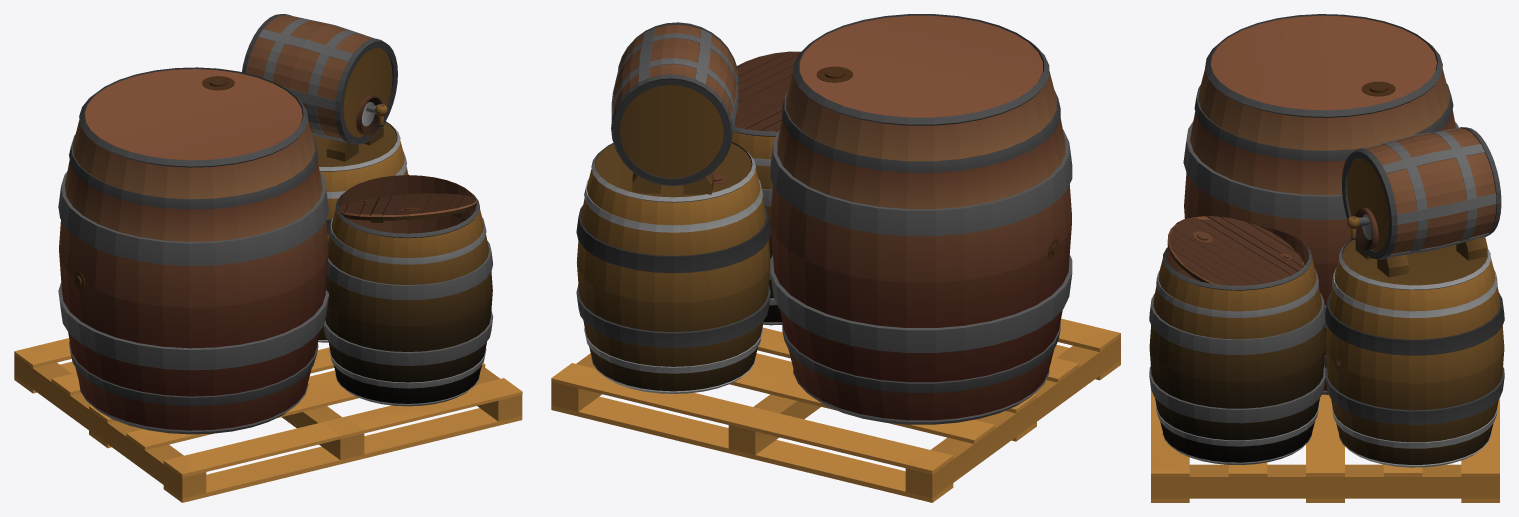
Rendered from Large Pallet of Barrels.fbx.
The picture shows the model from 3 angles, left to right: view 1: azimuth 30°, elevation 25°; view 2: azimuth 150°, elevation 25°; view 3: azimuth 270°, elevation 25°; orthographic projection. The views are drawn at different scales.
Parts seen in each view (by area): view 1: Large Barrel Pallet; view 2: Large Barrel Pallet; view 3: Large Barrel Pallet.
Boxes of the visible parts, x1=… form: Large Barrel Pallet: x1=14, y1=14, x2=522, y2=502; Large Barrel Pallet: x1=551, y1=14, x2=1120, y2=502; Large Barrel Pallet: x1=1149, y1=14, x2=1504, y2=502.
Size of the model in its own units: 484 by 479 by 599.
Materials: 1 (1 with a texture image).
